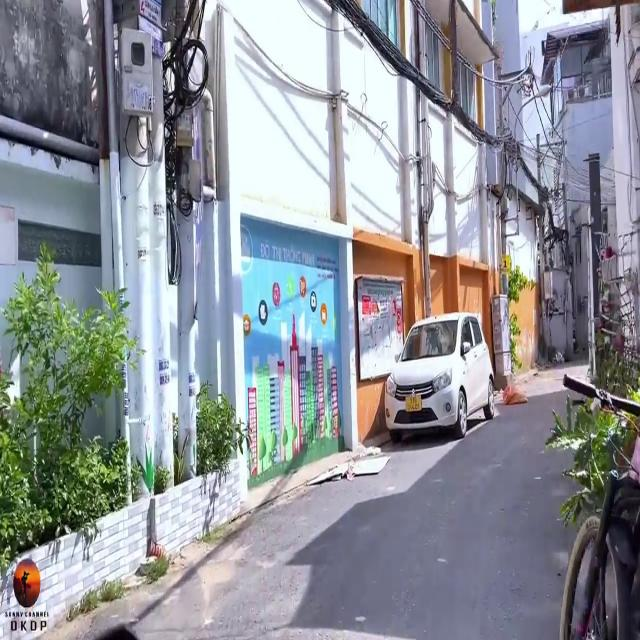bien_vang: (404, 395, 421, 414)
